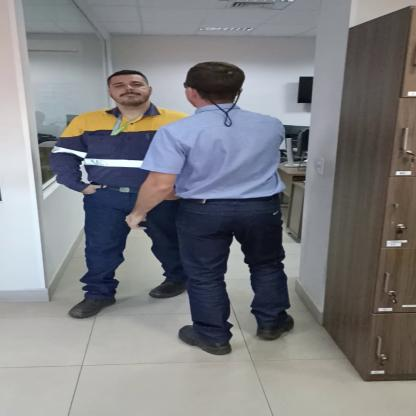Operacional: (46, 107, 193, 198)
